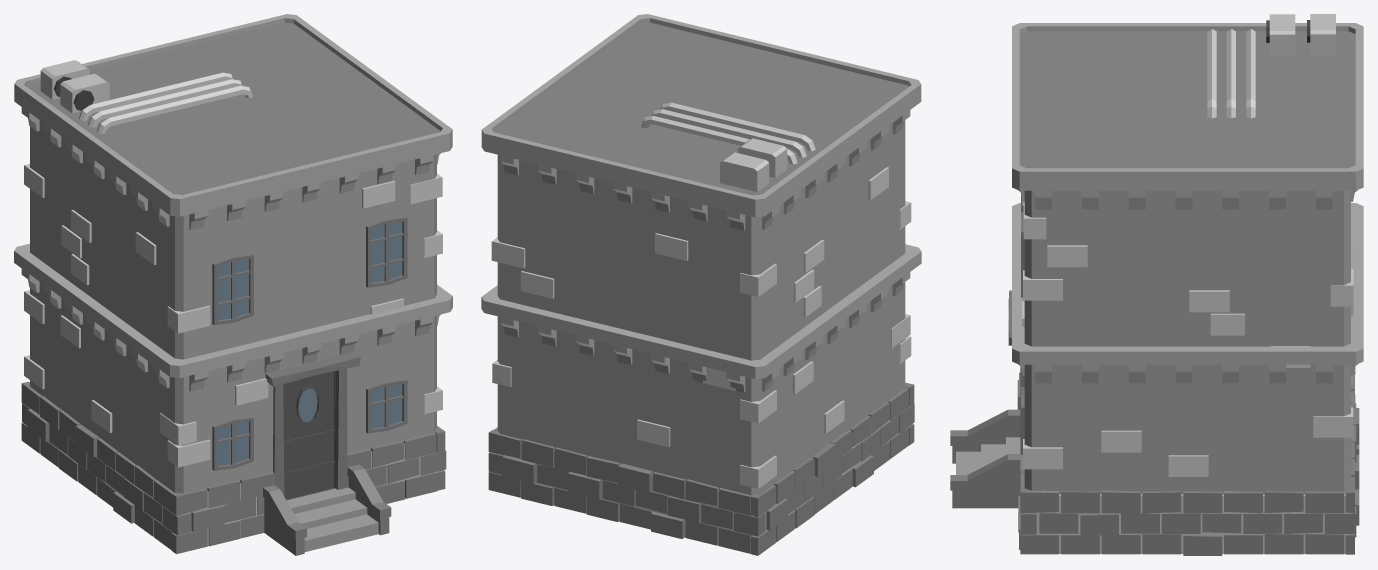
File: qtb_2story_stairs.fbx
3 views of the same model, side by side, from view 1: azimuth 30°, elevation 25°; view 2: azimuth 150°, elevation 25°; view 3: azimuth 270°, elevation 25° (orthographic). The views are drawn at different scales.
Visible parts, largest first — view 1: qtb_2story_stairs_LOD0; view 2: qtb_2story_stairs_LOD0; view 3: qtb_2story_stairs_LOD0.
Boxes of the visible parts, x1=… form: qtb_2story_stairs_LOD0: x1=14, y1=14, x2=452, y2=555; qtb_2story_stairs_LOD0: x1=481, y1=14, x2=921, y2=555; qtb_2story_stairs_LOD0: x1=950, y1=14, x2=1363, y2=555.
Size of what is drawn, in the model's own units: 5.83 by 7.41 by 6.84.
